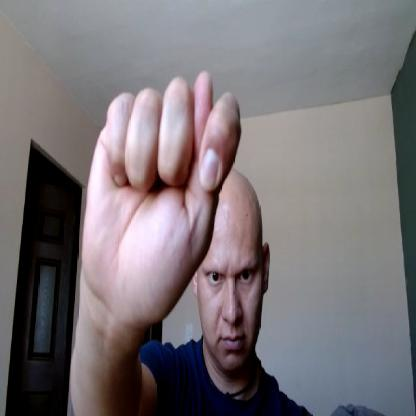T: (82, 66, 243, 316)
